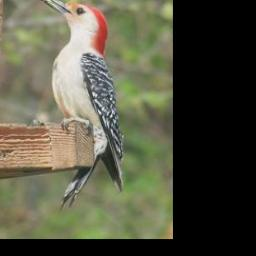Woodpecker: (37, 0, 123, 211)
